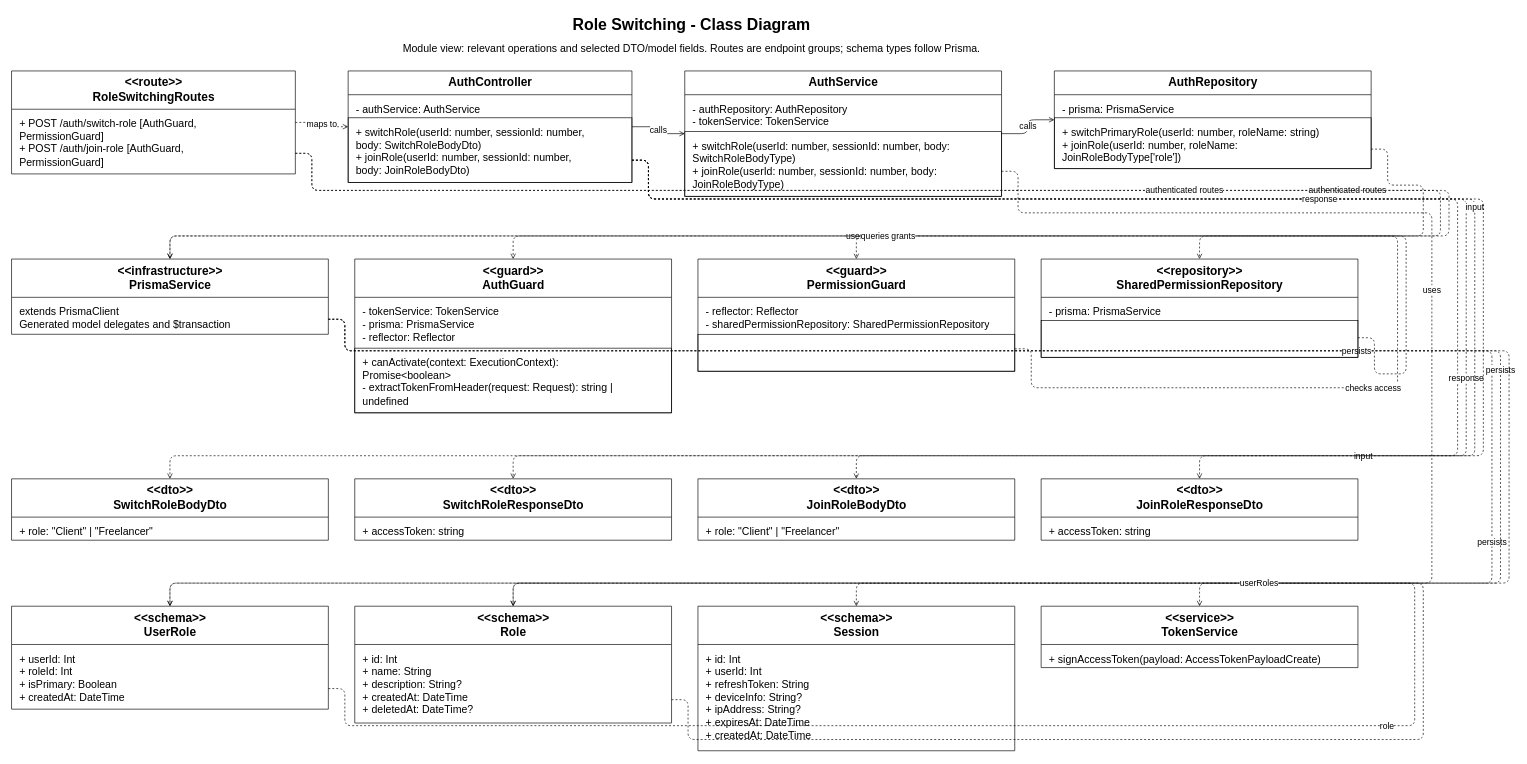
Image size: 1527x764. Some labels were removed from this diagram. Each missing label, with the centre of its shape:
"+ canActivate(context: ExecutionContext): Promise<boolean>" goes at [856,352].
"+ roleHasPermission(roleId: number, method: string, path: string)" goes at [1199,338].
